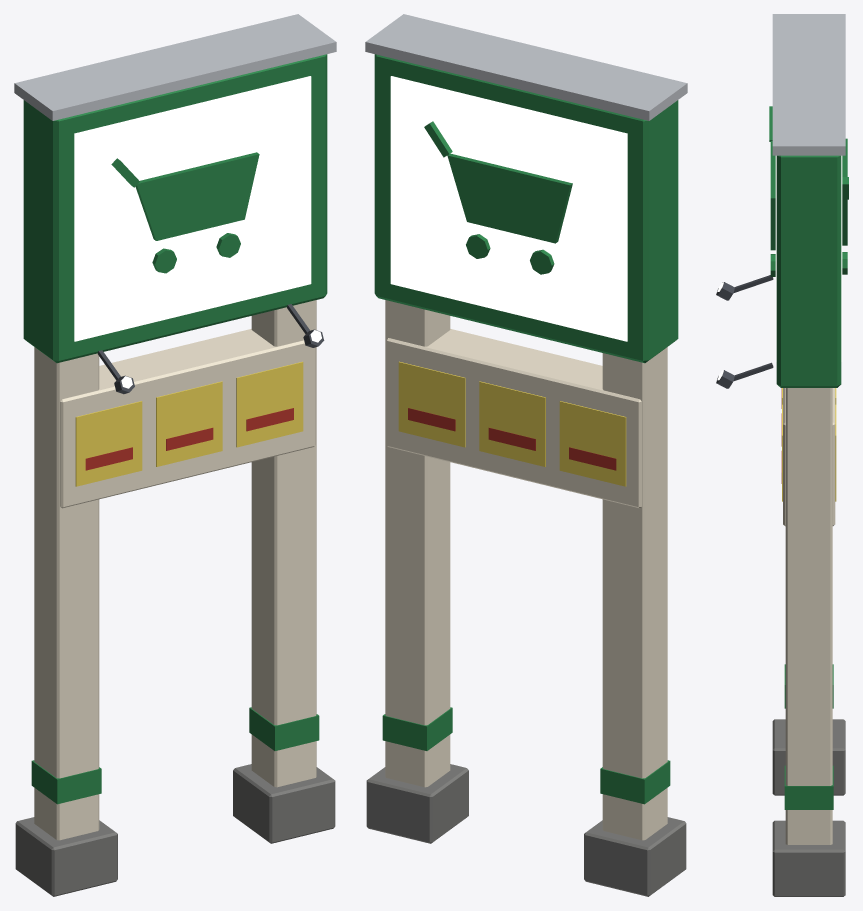
The model's file is Pylon_Supermarket_Tall.glb.
3 renders of one model, left to right at view 1: azimuth 30°, elevation 25°; view 2: azimuth 150°, elevation 25°; view 3: azimuth 270°, elevation 25°, orthographic. The views are drawn at different scales.
Visible parts, largest first — view 1: Pylon_Supermarket_Tall; view 2: Pylon_Supermarket_Tall; view 3: Pylon_Supermarket_Tall.
Part boxes in pixels (x1=…): Pylon_Supermarket_Tall: x1=14, y1=14, x2=336, y2=896; Pylon_Supermarket_Tall: x1=365, y1=14, x2=687, y2=896; Pylon_Supermarket_Tall: x1=716, y1=14, x2=848, y2=896.
Bounding box in the file's own units: 3 × 7.95 × 1.27.
1 material, 1 textured.
